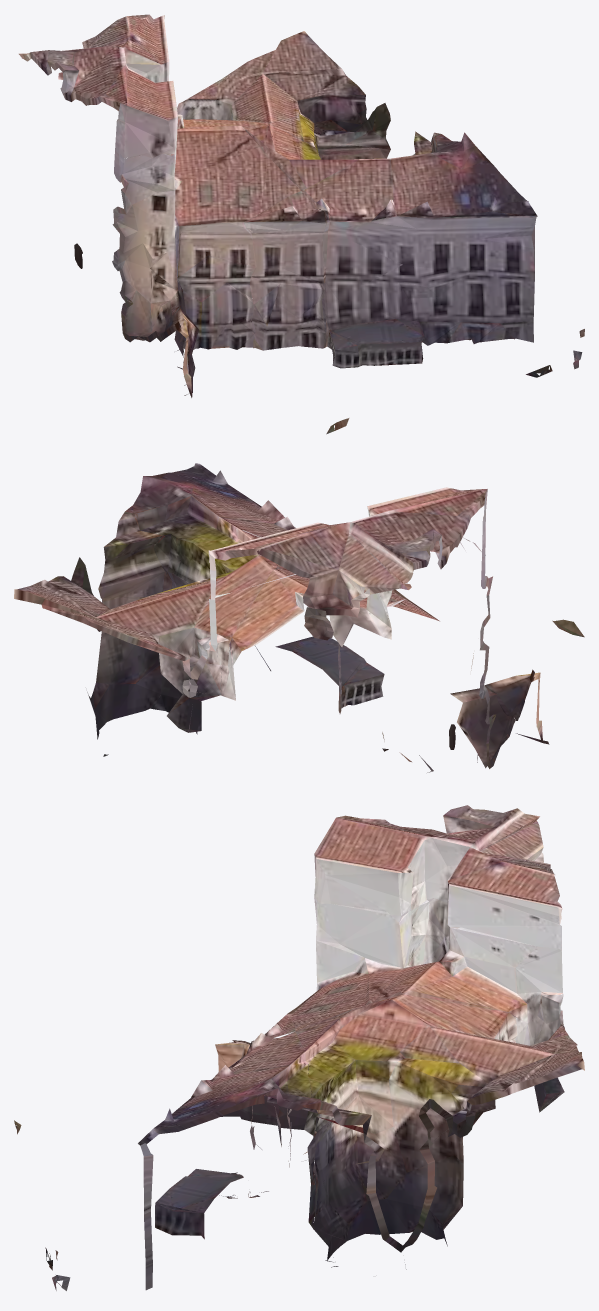
3 views of the same model, one above another, from view 1: azimuth 30°, elevation 25°; view 2: azimuth 150°, elevation 25°; view 3: azimuth 270°, elevation 25° (orthographic). The views are drawn at different scales.
Visible parts, largest first — view 1: Mesh_0; view 2: Mesh_0; view 3: Mesh_0.
Boxes of the visible parts, x1,y1,x2,y2 form: Mesh_0: (19,14,584,434); Mesh_0: (14,463,584,772); Mesh_0: (14,805,584,1290).
Size of the model in its own units: 34.22 by 23.6 by 41.
Materials: 1 (1 with a texture image).
